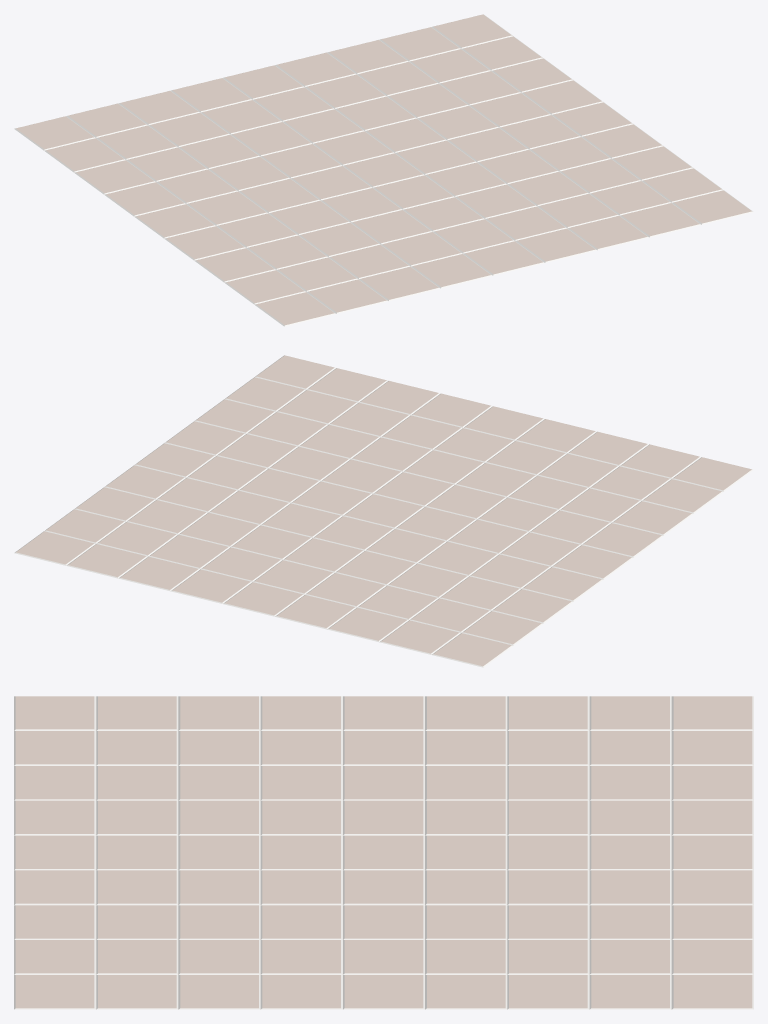
Rendered from Living_Room_floortile.fbx.
3 views of the same model, one above another, from view 1: azimuth 30°, elevation 25°; view 2: azimuth 150°, elevation 25°; view 3: azimuth 270°, elevation 25° (orthographic). The views are drawn at different scales.
Visible parts, largest first — view 1: Living_Room_floortile; view 2: Living_Room_floortile; view 3: Living_Room_floortile.
Part boxes in pixels (<box>): Living_Room_floortile: <box>14,14,753,326</box>; Living_Room_floortile: <box>14,355,753,667</box>; Living_Room_floortile: <box>14,696,753,1009</box>.
Bounding box in the file's own units: 490 × 0.6001 × 489.
